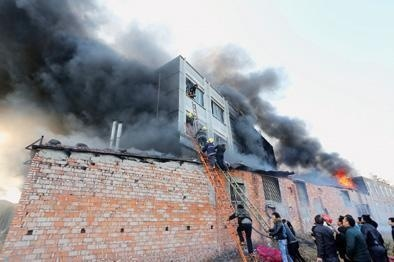fire: (336, 169, 355, 187)
